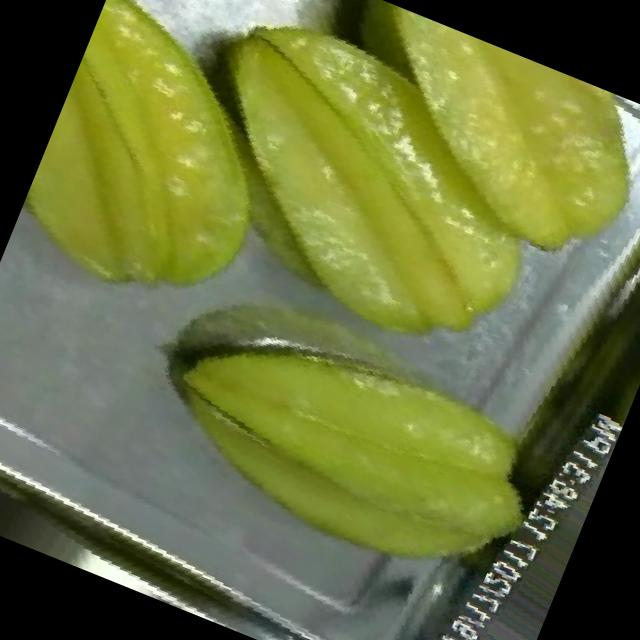fruit: (101, 263, 580, 640), (238, 0, 640, 390), (0, 0, 357, 357)
